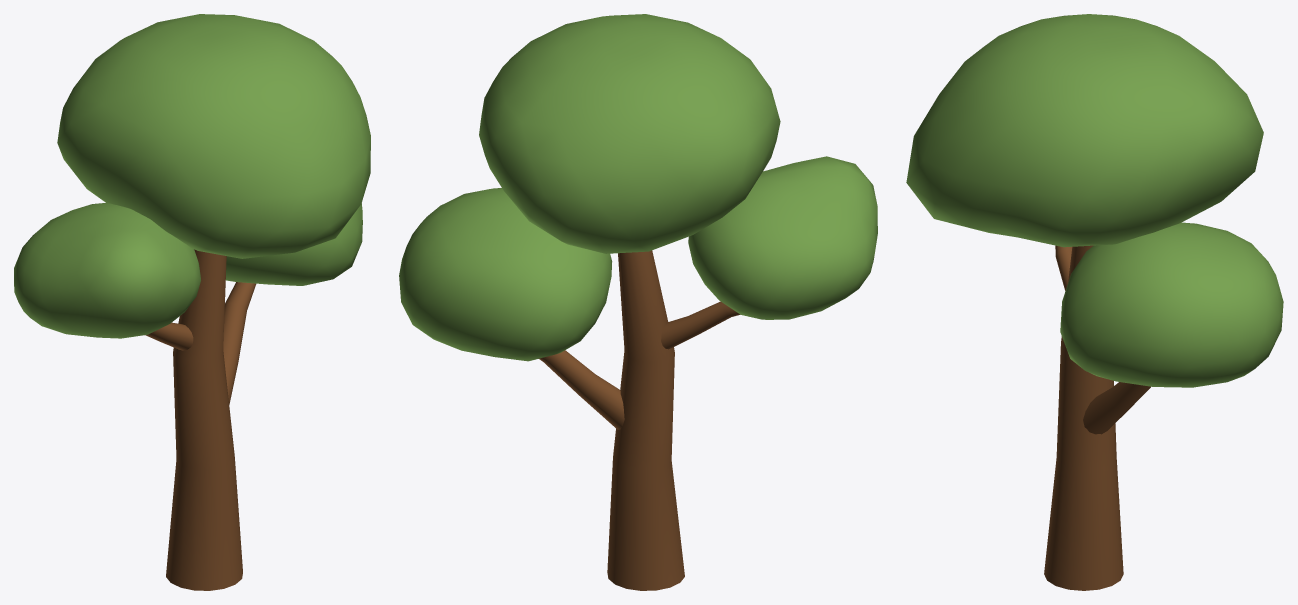
The model's file is tree.fbx.
3 views of the same model, side by side, from view 1: azimuth 30°, elevation 25°; view 2: azimuth 150°, elevation 25°; view 3: azimuth 270°, elevation 25° (orthographic). The views are drawn at different scales.
Parts seen in each view (by area): view 1: tree; view 2: tree; view 3: tree.
Boxes of the visible parts, x1,y1,x2,y2 form: tree: (14, 14, 370, 590); tree: (399, 14, 877, 590); tree: (906, 14, 1283, 590).
Bounding box in the file's own units: 575 × 754 × 474.
